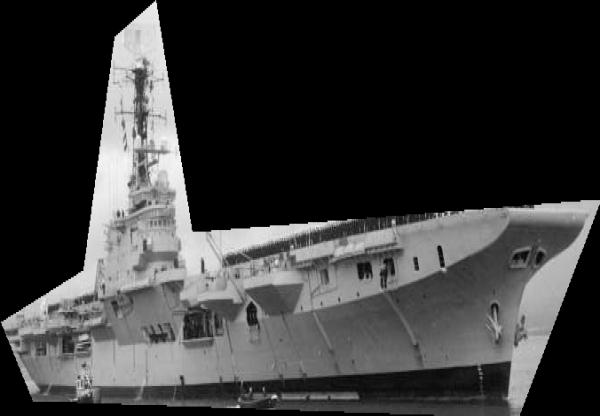Aircraft Carrier: (1, 1, 600, 416)
